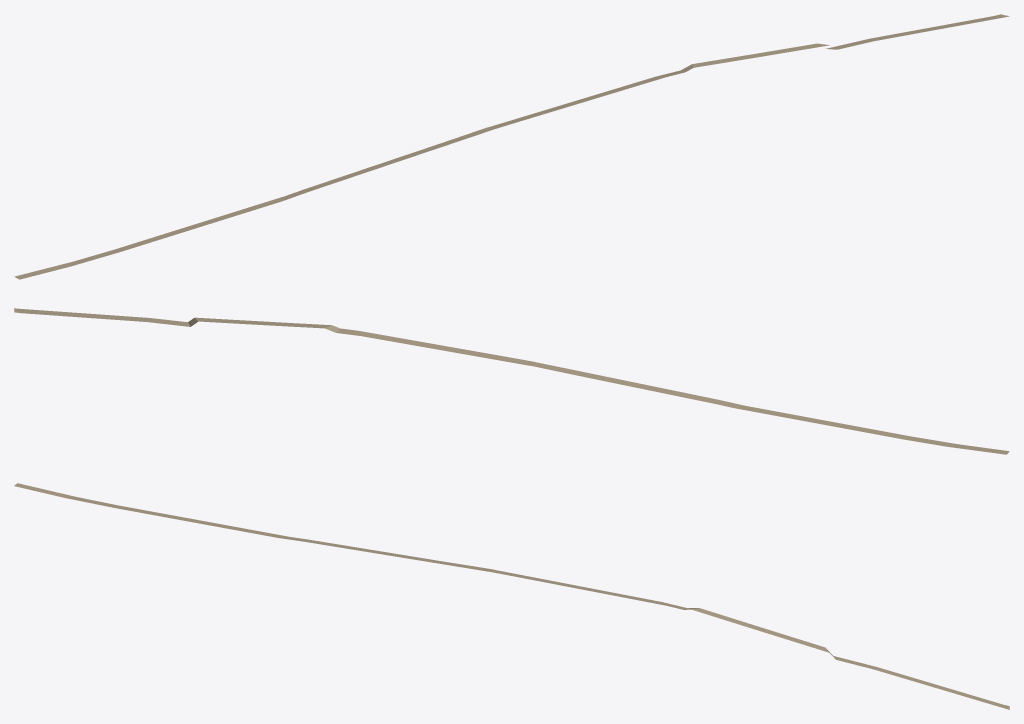
File: farm_14_-1_track.glb
The picture shows the model from 3 angles, top to bottom: view 1: azimuth 30°, elevation 25°; view 2: azimuth 150°, elevation 25°; view 3: azimuth 330°, elevation 25°; orthographic projection. The views are drawn at different scales.
Visible parts, largest first — view 1: geometry_0; view 2: geometry_0; view 3: geometry_0.
Part boxes in pixels (x1=…): geometry_0: x1=14, y1=14, x2=1009, y2=279; geometry_0: x1=14, y1=308, x2=1009, y2=454; geometry_0: x1=14, y1=483, x2=1009, y2=709.
Bounding box in the file's own units: 420 × 18.25 × 50.62.
